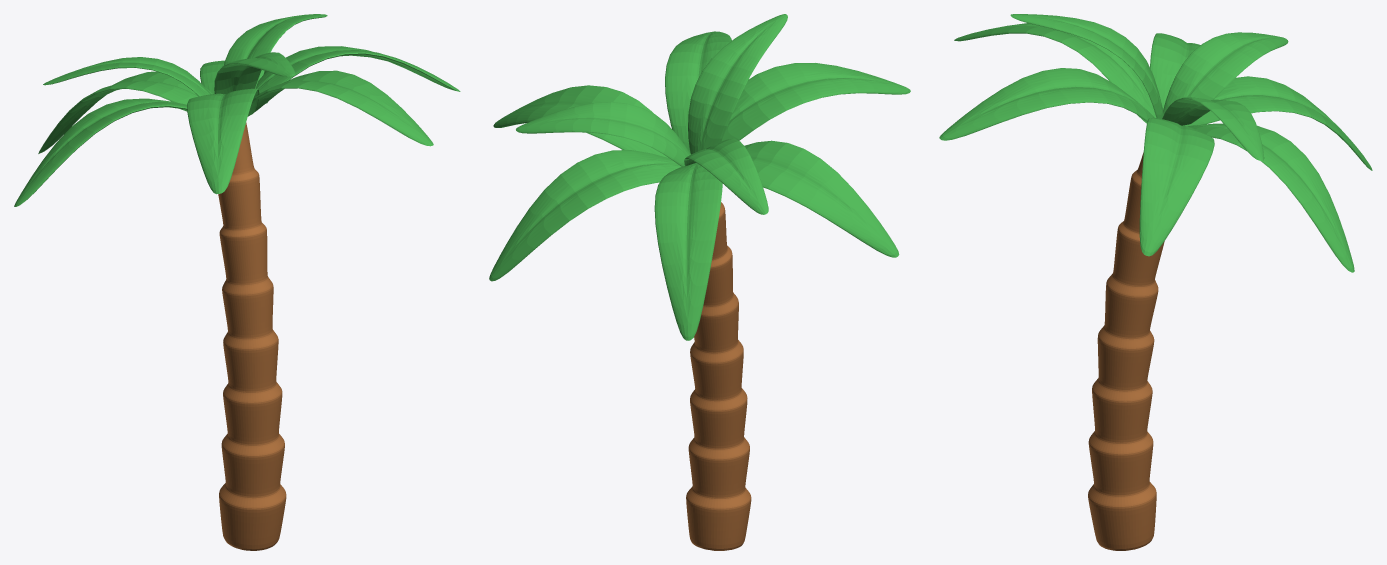
The model's file is palm.glb.
The picture shows the model from 3 angles, left to right: view 1: azimuth 30°, elevation 25°; view 2: azimuth 150°, elevation 25°; view 3: azimuth 270°, elevation 25°; orthographic projection. The views are drawn at different scales.
Visible parts, largest first — view 1: Leafs, Trunk; view 2: Leafs, Trunk; view 3: Leafs, Trunk.
Part boxes in pixels (x1,y1,x2,y2): Leafs: (14,14,460,206); Trunk: (218,122,286,550); Leafs: (489,14,910,340); Trunk: (686,202,751,550); Leafs: (939,14,1372,272); Trunk: (1088,152,1164,550).
Size of the model in its own units: 4.72 by 5.33 by 4.02.
